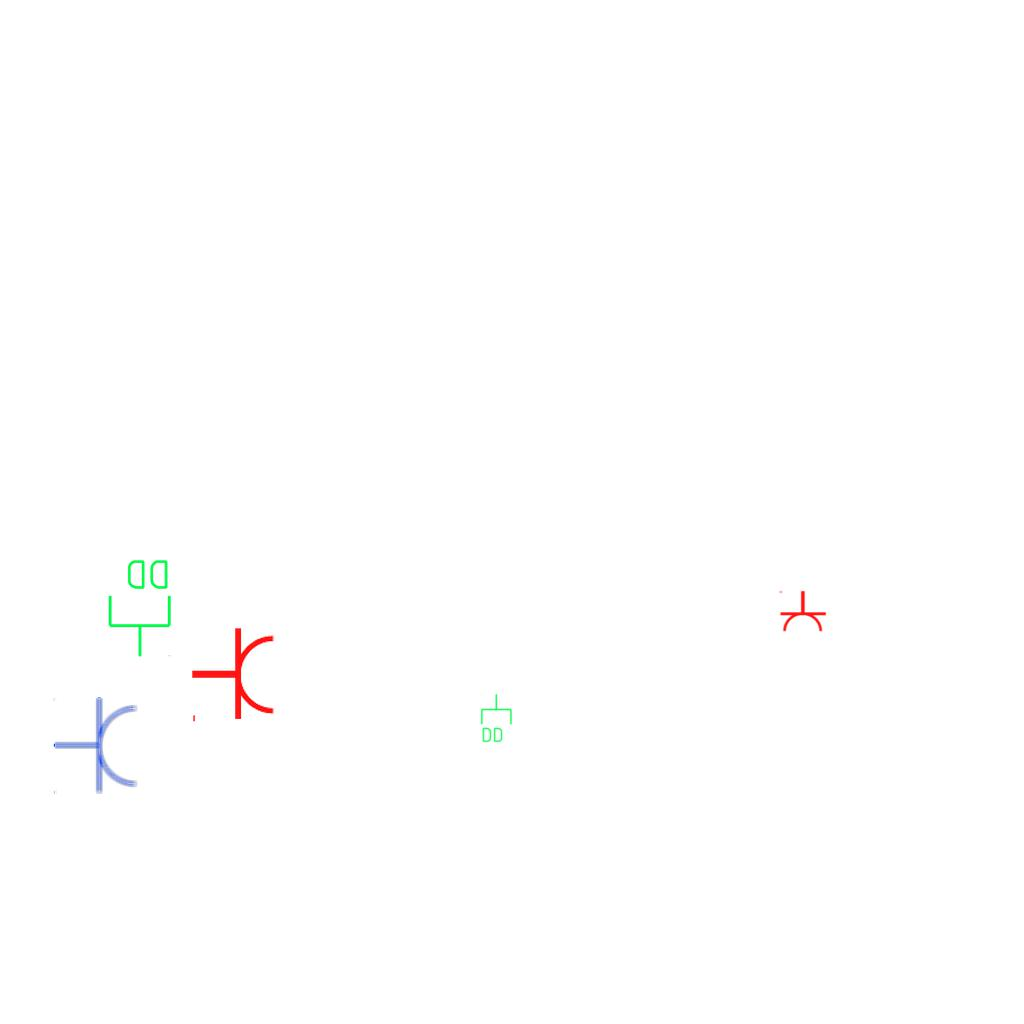Datenanschluss_zweifach: (106, 556, 175, 659), (479, 693, 513, 744)
Schukosteckdose_einfach: (53, 696, 140, 796), (190, 626, 277, 726), (777, 590, 827, 633)
